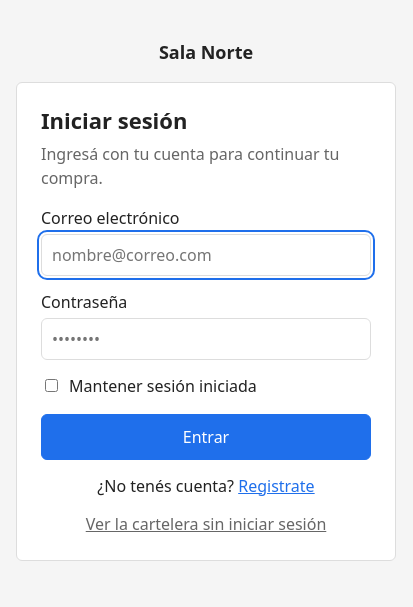
Test: Login › muestra el error de la API cuando las credenciales son incorrectas
In the field labelled "Correo electrónico": (206, 255) top-left (41, 234), bottom-right (371, 276), type "maria@example.com"
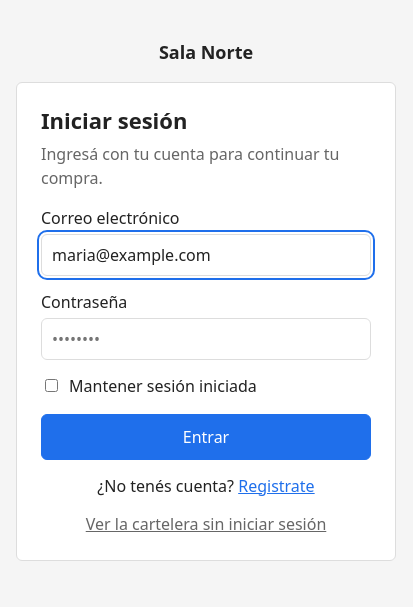
In the password field labelled "Contraseña": (206, 339) top-left (41, 318), bottom-right (371, 360), type "incorrecta"
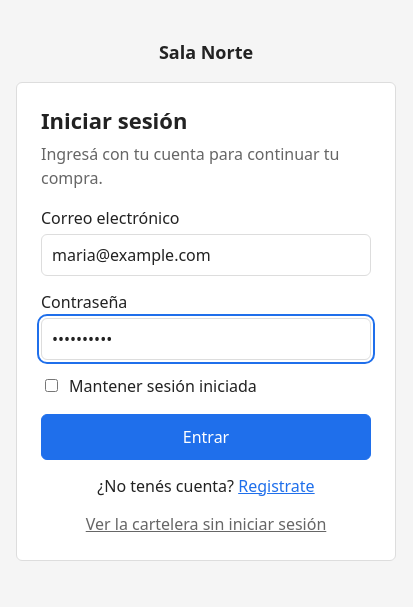
Click the button "Entrar": (206, 437) top-left (41, 414), bottom-right (371, 460)
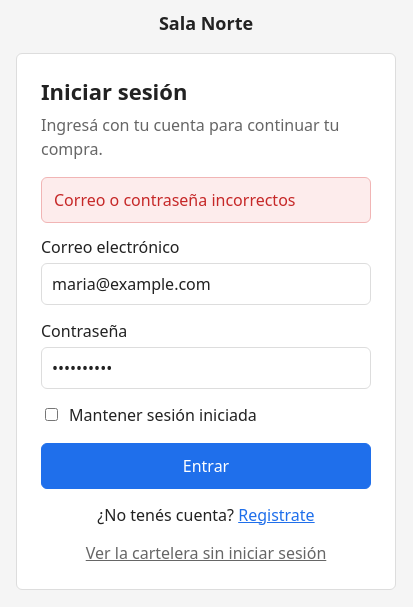
Expected: the button "Entrar" is enabled, top-left (41, 443), bottom-right (371, 489)
Expected: the message reads "Correo o contraseña incorrectos", top-left (54, 189), bottom-right (296, 211)
